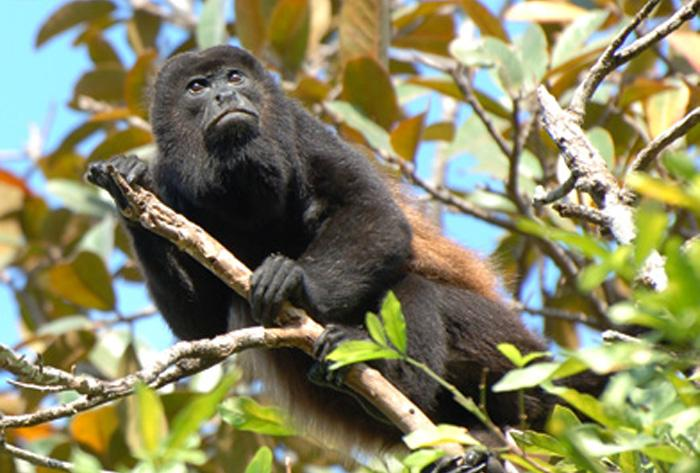monkey: (86, 44, 546, 461)
